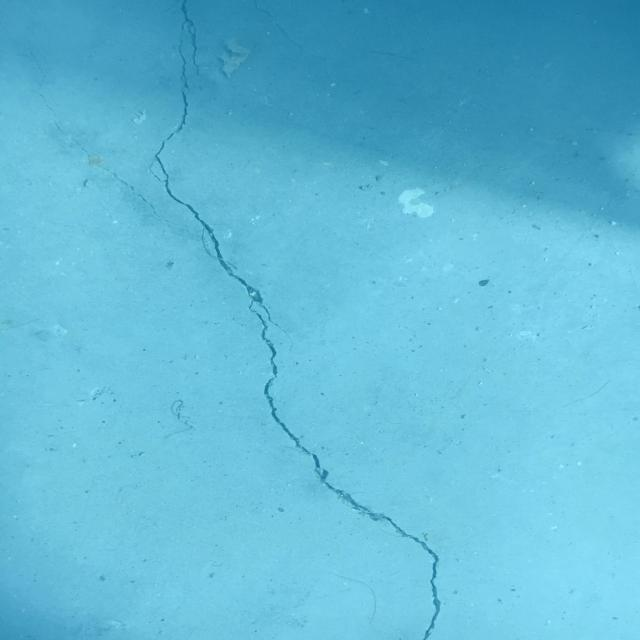crack: (147, 0, 442, 640), (36, 75, 170, 222), (252, 0, 286, 33)
